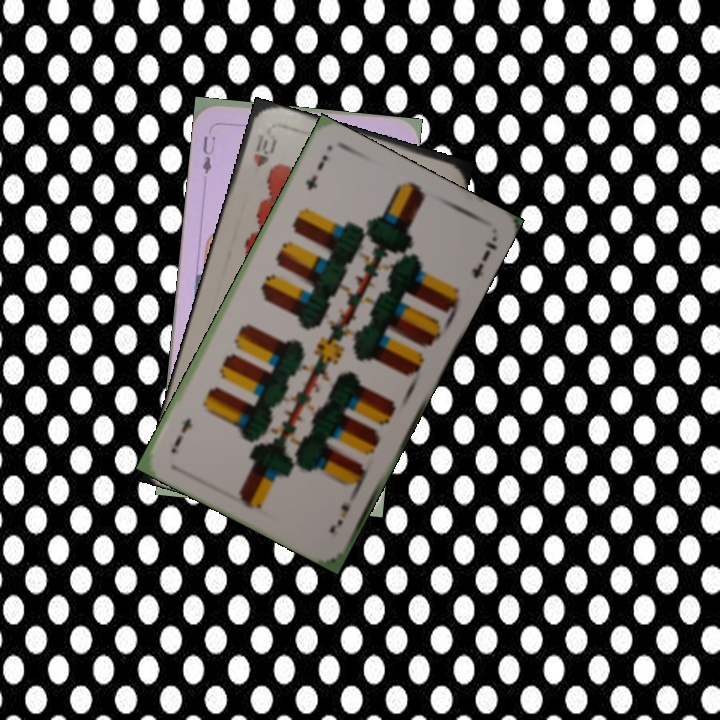E7: (325, 486, 360, 536), (301, 150, 331, 193)
EU: (198, 131, 218, 177)
H10: (249, 127, 279, 169)
